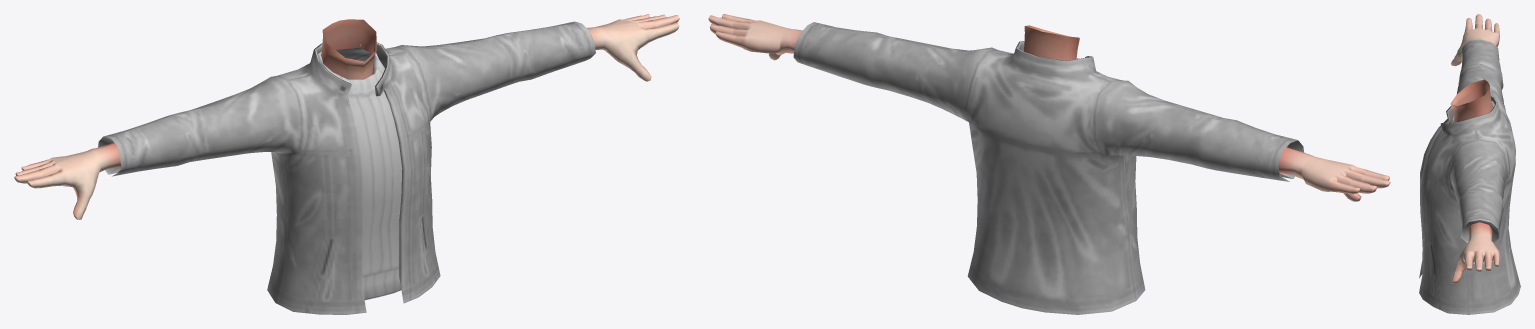
Rendered from tr0780_00_upb03.gltf.
3 views of the same model, side by side, from view 1: azimuth 30°, elevation 25°; view 2: azimuth 150°, elevation 25°; view 3: azimuth 270°, elevation 25° (orthographic). The views are drawn at different scales.
Visible parts, largest first — view 1: upb03_upperbody_mesh_shape:upperbody03, upb03_upperskin_mesh_shape:upperbody03_skin; view 2: upb03_upperbody_mesh_shape:upperbody03, upb03_upperskin_mesh_shape:upperbody03_skin; view 3: upb03_upperbody_mesh_shape:upperbody03, upb03_upperskin_mesh_shape:upperbody03_skin.
Part boxes in pixels (x1,y1,x2,y2): upb03_upperbody_mesh_shape:upperbody03: (98, 21, 595, 314); upb03_upperskin_mesh_shape:upperbody03_skin: (14, 14, 679, 219); upb03_upperbody_mesh_shape:upperbody03: (793, 22, 1304, 314); upb03_upperskin_mesh_shape:upperbody03_skin: (708, 14, 1390, 201); upb03_upperbody_mesh_shape:upperbody03: (1419, 39, 1520, 314); upb03_upperskin_mesh_shape:upperbody03_skin: (1450, 14, 1499, 283).
Size of what is drawn, in the model's own units: 1.63 by 0.5998 by 0.276.
Materials: 2 (2 with a texture image).
